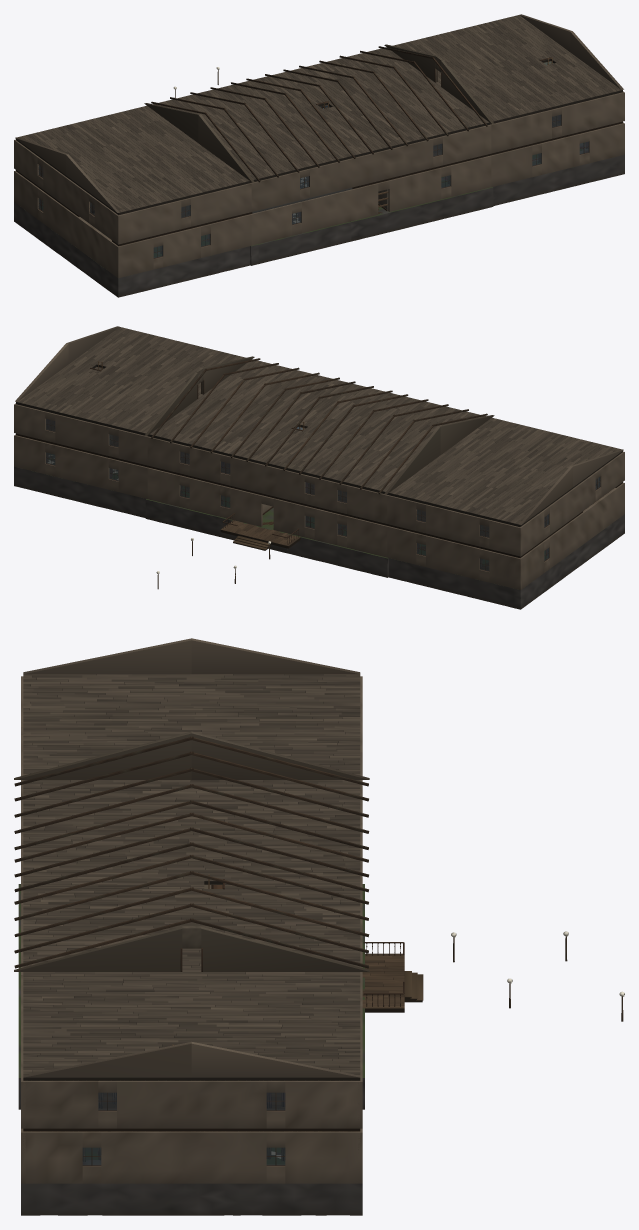
The model's file is CannibalFamilyMeshes9.glb.
3 views of the same model, one above another, from view 1: azimuth 30°, elevation 25°; view 2: azimuth 150°, elevation 25°; view 3: azimuth 270°, elevation 25° (orthographic). The views are drawn at different scales.
Visible parts, largest first — view 1: FarmhouseStructure_hs_plaster, FarmhouseStructure_hs_floor_3, FarmhouseStructure_hs_floor, FarmhouseStructure_hs_floor_2, FarmhouseStructure_hs_stone, FarmhouseStructure_hs_floor_4, FarmhouseStructure_hs_beam, FarmhouseStructure_hs_wood, FarmhouseStructure_hs_wood_2, FarmhouseStructure_hs_glass, FarmhouseStructure_hs_beam_2; view 2: FarmhouseStructure_hs_plaster, FarmhouseStructure_hs_floor_3, FarmhouseStructure_hs_floor_2, FarmhouseStructure_hs_floor, FarmhouseStructure_hs_stone, FarmhouseStructure_hs_floor_4, FarmhouseStructure_hs_beam, FarmhouseStructure_hs_wood_2, FarmhouseStructure_hs_wood, FarmhouseStructure_hs_glass, FarmhouseStructure_hs_beam_2; view 3: FarmhouseStructure_hs_plaster, FarmhouseStructure_hs_floor_3, FarmhouseStructure_hs_floor_2, FarmhouseStructure_hs_floor, FarmhouseStructure_hs_beam, FarmhouseStructure_hs_stone, FarmhouseStructure_hs_floor_4, FarmhouseStructure_hs_wood_2, FarmhouseStructure_hs_wood, FarmhouseStructure_hs_beam_2, FarmhouseStructure_hs_glass.
Part boxes in pixels (box(x1,y1,x2,y2)): FarmhouseStructure_hs_plaster: box(14, 14, 624, 278); FarmhouseStructure_hs_floor_3: box(283, 29, 622, 179); FarmhouseStructure_hs_floor: box(16, 102, 265, 246); FarmhouseStructure_hs_floor_2: box(163, 72, 415, 213); FarmhouseStructure_hs_stone: box(14, 149, 624, 297); FarmhouseStructure_hs_floor_4: box(461, 15, 622, 132); FarmhouseStructure_hs_beam: box(151, 60, 428, 182); FarmhouseStructure_hs_wood: box(38, 103, 388, 258); FarmhouseStructure_hs_wood_2: box(316, 44, 588, 210); FarmhouseStructure_hs_glass: box(38, 114, 588, 258); FarmhouseStructure_hs_beam_2: box(339, 46, 487, 136); FarmhouseStructure_hs_plaster: box(14, 326, 624, 590); FarmhouseStructure_hs_floor_3: box(16, 334, 325, 534); FarmhouseStructure_hs_floor_2: box(149, 377, 475, 548); FarmhouseStructure_hs_floor: box(373, 414, 622, 570); FarmhouseStructure_hs_stone: box(14, 454, 624, 609); FarmhouseStructure_hs_floor_4: box(16, 327, 165, 451); FarmhouseStructure_hs_beam: box(157, 372, 487, 589); FarmhouseStructure_hs_wood_2: box(46, 356, 304, 550); FarmhouseStructure_hs_wood: box(272, 415, 609, 571); FarmhouseStructure_hs_glass: box(46, 419, 600, 571); FarmhouseStructure_hs_beam_2: box(151, 358, 299, 448); FarmhouseStructure_hs_plaster: box(21, 638, 362, 1183); FarmhouseStructure_hs_floor_3: box(23, 887, 404, 1131); FarmhouseStructure_hs_floor_2: box(23, 781, 404, 1012); FarmhouseStructure_hs_floor: box(23, 674, 360, 790); FarmhouseStructure_hs_beam: box(14, 736, 623, 1021); FarmhouseStructure_hs_stone: box(18, 884, 364, 1215); FarmhouseStructure_hs_floor_4: box(23, 1029, 360, 1131); FarmhouseStructure_hs_wood_2: box(14, 874, 423, 1166); FarmhouseStructure_hs_wood: box(14, 731, 404, 955); FarmhouseStructure_hs_beam_2: box(14, 887, 369, 968); FarmhouseStructure_hs_glass: box(82, 1092, 285, 1165).
Size of the model in its own units: 205 by 43.7 by 131.
